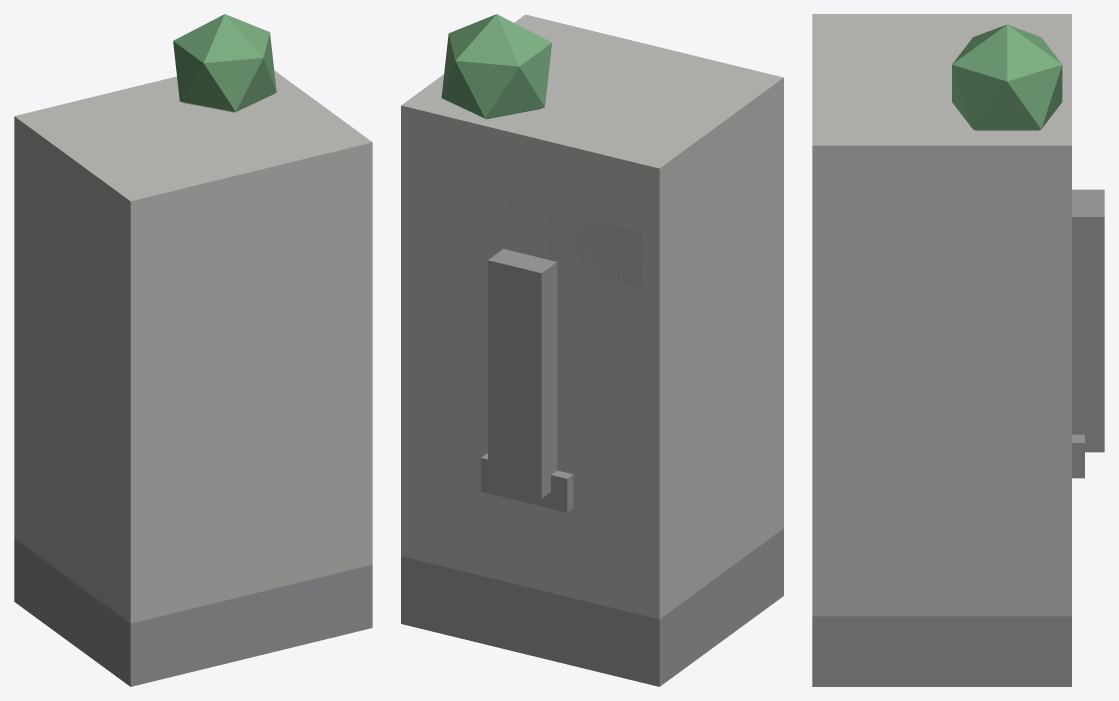
The model's file is 18-Casas_decor_idol_piedra.glb.
3 views of the same model, side by side, from view 1: azimuth 30°, elevation 25°; view 2: azimuth 150°, elevation 25°; view 3: azimuth 270°, elevation 25° (orthographic). The views are drawn at different scales.
Visible parts, largest first — view 1: SM_Idol_Cabeza, SM_Idol_Base, SM_Idol_Musgo; view 2: SM_Idol_Cabeza, SM_Idol_Base, SM_Idol_Nariz, SM_Idol_Musgo, SM_Idol_CejaI, SM_Idol_Boca; view 3: SM_Idol_Cabeza, SM_Idol_Base, SM_Idol_Musgo, SM_Idol_Nariz, SM_Idol_Boca.
Part boxes in pixels (bbox=[...]): SM_Idol_Cabeza: bbox=[14, 70, 372, 623]; SM_Idol_Base: bbox=[14, 539, 372, 686]; SM_Idol_Musgo: bbox=[173, 14, 276, 112]; SM_Idol_Cabeza: bbox=[401, 14, 783, 619]; SM_Idol_Base: bbox=[401, 528, 783, 686]; SM_Idol_Nariz: bbox=[488, 249, 557, 498]; SM_Idol_Musgo: bbox=[441, 14, 551, 119]; SM_Idol_CejaI: bbox=[546, 210, 643, 287]; SM_Idol_Boca: bbox=[481, 453, 573, 512]; SM_Idol_Cabeza: bbox=[812, 14, 1071, 616]; SM_Idol_Base: bbox=[812, 616, 1071, 686]; SM_Idol_Musgo: bbox=[952, 24, 1062, 130]; SM_Idol_Nariz: bbox=[1072, 189, 1104, 452]; SM_Idol_Boca: bbox=[1072, 434, 1084, 478].
Bounding box in the file's own units: 0.24 × 0.535 × 0.225.
